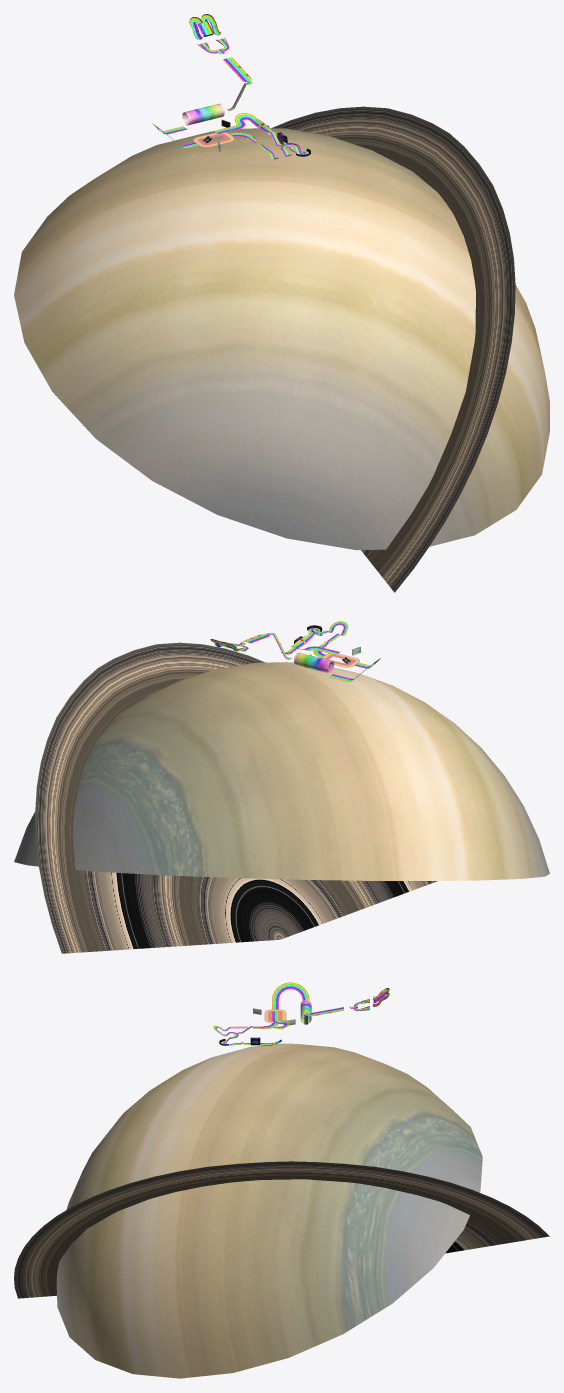
3 views of the same model, one above another, from view 1: azimuth 30°, elevation 25°; view 2: azimuth 150°, elevation 25°; view 3: azimuth 270°, elevation 25° (orthographic). The views are drawn at different scales.
Visible parts, largest first — view 1: AutoSave_rainbowtrack-SKP--Material17, AutoSave_rainbowtrack-SKP--Material19, AutoSave_rainbowtrack-SKP--Material1; view 2: AutoSave_rainbowtrack-SKP--Material17, AutoSave_rainbowtrack-SKP--Material19, AutoSave_rainbowtrack-SKP--Material1, AutoSave_rainbowtrack-SKP--Material15; view 3: AutoSave_rainbowtrack-SKP--Material17, AutoSave_rainbowtrack-SKP--Material19, AutoSave_rainbowtrack-SKP--Material1.
Part boxes in pixels (<box>): AutoSave_rainbowtrack-SKP--Material17: <box>14,128,549,550</box>; AutoSave_rainbowtrack-SKP--Material19: <box>271,106,515,592</box>; AutoSave_rainbowtrack-SKP--Material1: <box>152,14,308,159</box>; AutoSave_rainbowtrack-SKP--Material17: <box>14,662,549,880</box>; AutoSave_rainbowtrack-SKP--Material19: <box>35,642,437,953</box>; AutoSave_rainbowtrack-SKP--Material1: <box>211,621,380,681</box>; AutoSave_rainbowtrack-SKP--Material15: <box>294,652,334,673</box>; AutoSave_rainbowtrack-SKP--Material17: <box>56,1043,482,1378</box>; AutoSave_rainbowtrack-SKP--Material19: <box>14,1161,549,1298</box>; AutoSave_rainbowtrack-SKP--Material1: <box>213,982,389,1045</box>.
Bounding box in the file's own units: 335419 × 265414 × 401207.
27 materials, 26 textured.
